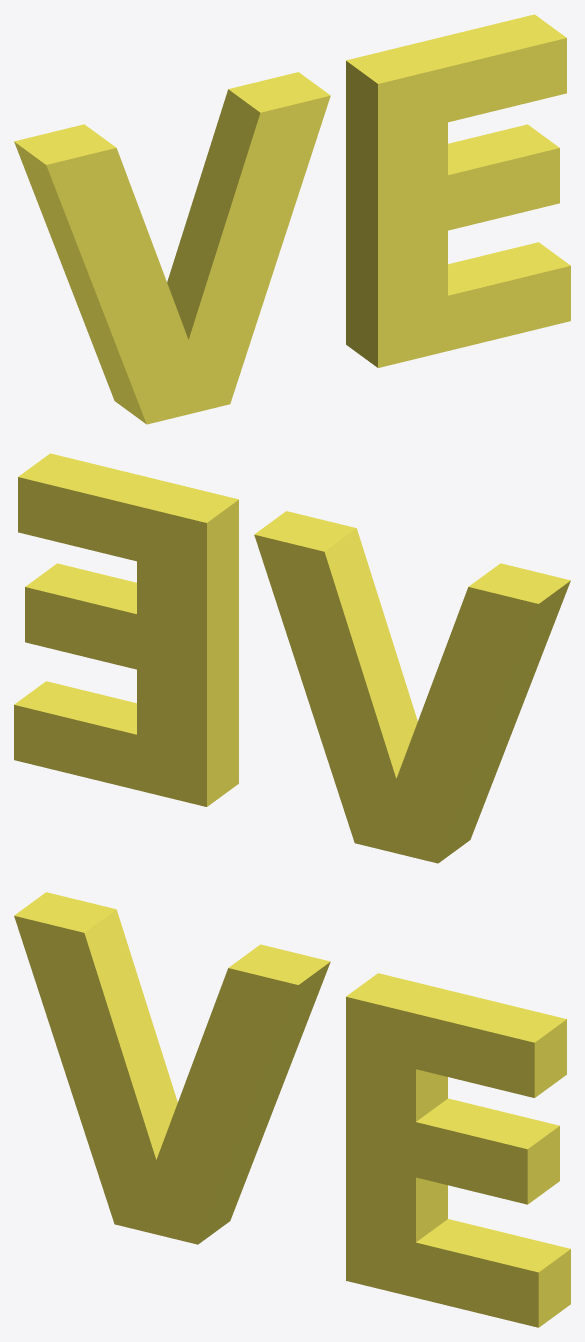
File: suku_besar_ve.glb
3 renders of one model, top to bottom at view 1: azimuth 30°, elevation 25°; view 2: azimuth 150°, elevation 25°; view 3: azimuth 330°, elevation 25°, orthographic.
Parts seen in each view (by area): view 1: geometry_0; view 2: geometry_0; view 3: geometry_0.
Part boxes in pixels (x1=…): geometry_0: x1=14, y1=14, x2=570, y2=424; geometry_0: x1=14, y1=453, x2=570, y2=863; geometry_0: x1=14, y1=892, x2=570, y2=1327.
Bounding box in the file's own units: 14.09 × 7.29 × 1.5.
